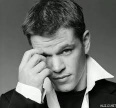male: (20, 4, 95, 93)
